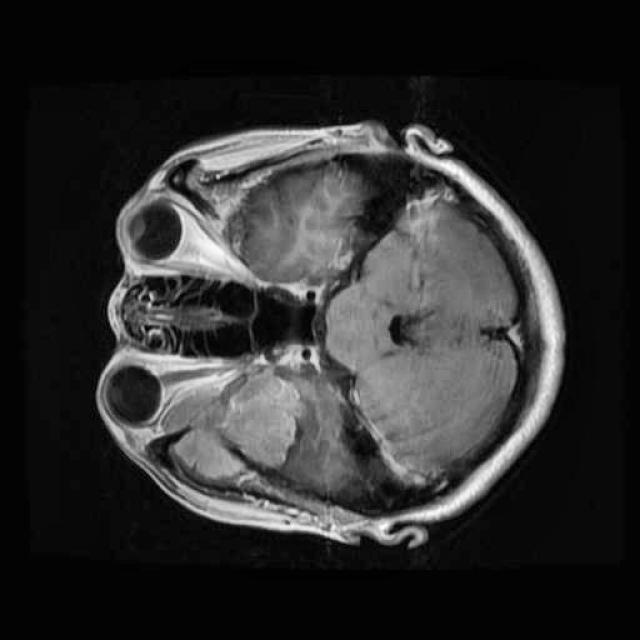Tumor: (211, 356, 320, 484)
